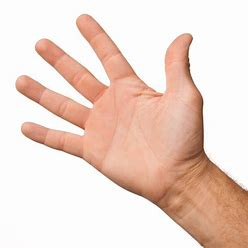palm: (15, 13, 205, 203)
